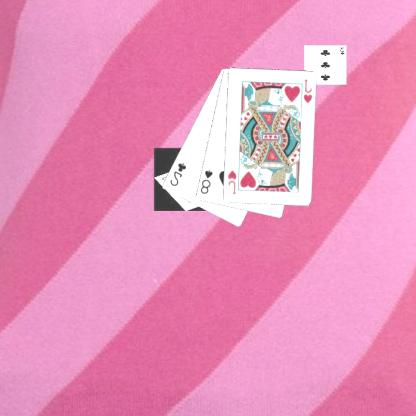2C: (169, 160, 189, 188)
8S: (199, 167, 216, 195)
JH: (226, 168, 239, 196), (302, 77, 315, 105)
